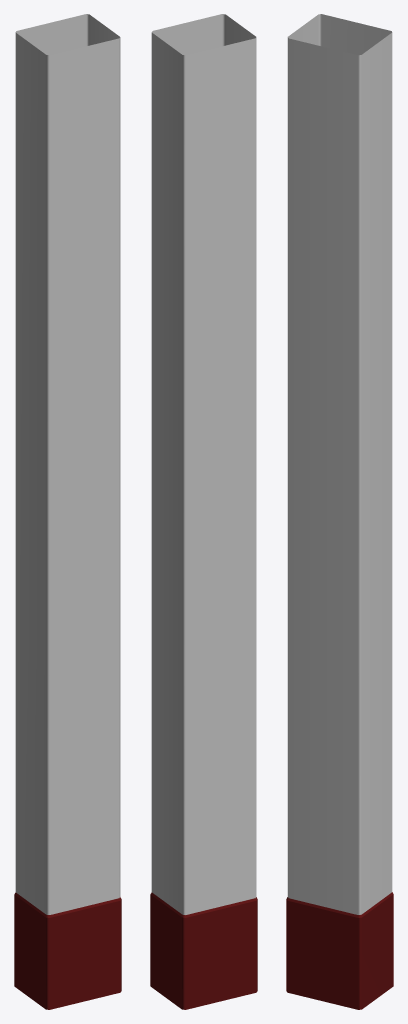
The model's file is SM_H_Building_Tide_Jail_Pillar_02_ATLAS.fbx.
The picture shows the model from 3 angles, left to right: view 1: azimuth 30°, elevation 25°; view 2: azimuth 210°, elevation 25°; view 3: azimuth 330°, elevation 25°; orthographic projection.
Parts seen in each view (by area): view 1: SM_H_Building_Tide_Jail_Pillar_02_ATLAS; view 2: SM_H_Building_Tide_Jail_Pillar_02_ATLAS; view 3: SM_H_Building_Tide_Jail_Pillar_02_ATLAS.
Part boxes in pixels (box(x1,y1,x2,y2)): SM_H_Building_Tide_Jail_Pillar_02_ATLAS: box(14, 14, 121, 1009); SM_H_Building_Tide_Jail_Pillar_02_ATLAS: box(150, 14, 257, 1009); SM_H_Building_Tide_Jail_Pillar_02_ATLAS: box(286, 14, 393, 1009).
Bounding box in the file's own units: 152 × 119 × 1836.
